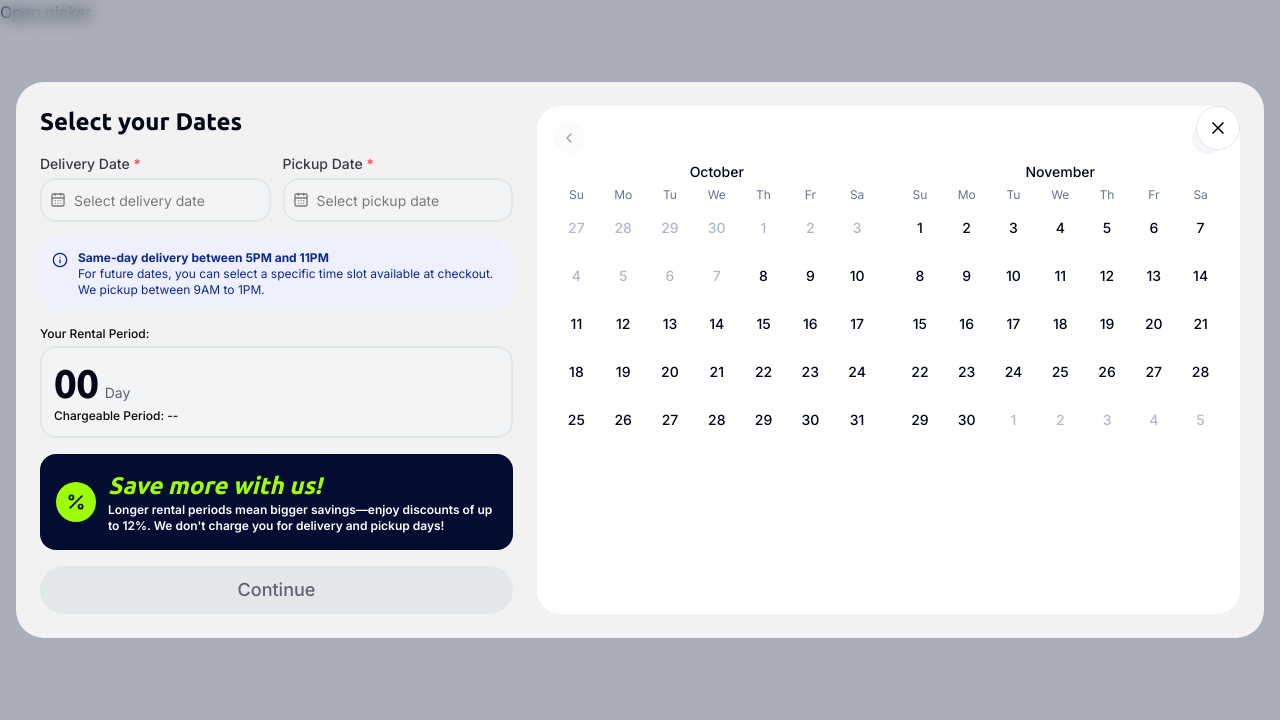
Scenario: DatePickerDialog › cannot be continued until both dates are chosen
The image size is (1280, 720).
Expected: the button "Continue" is disabled, [40,566,513,614]
Click the button "8" below "October": (764, 276) [741,253,786,299]
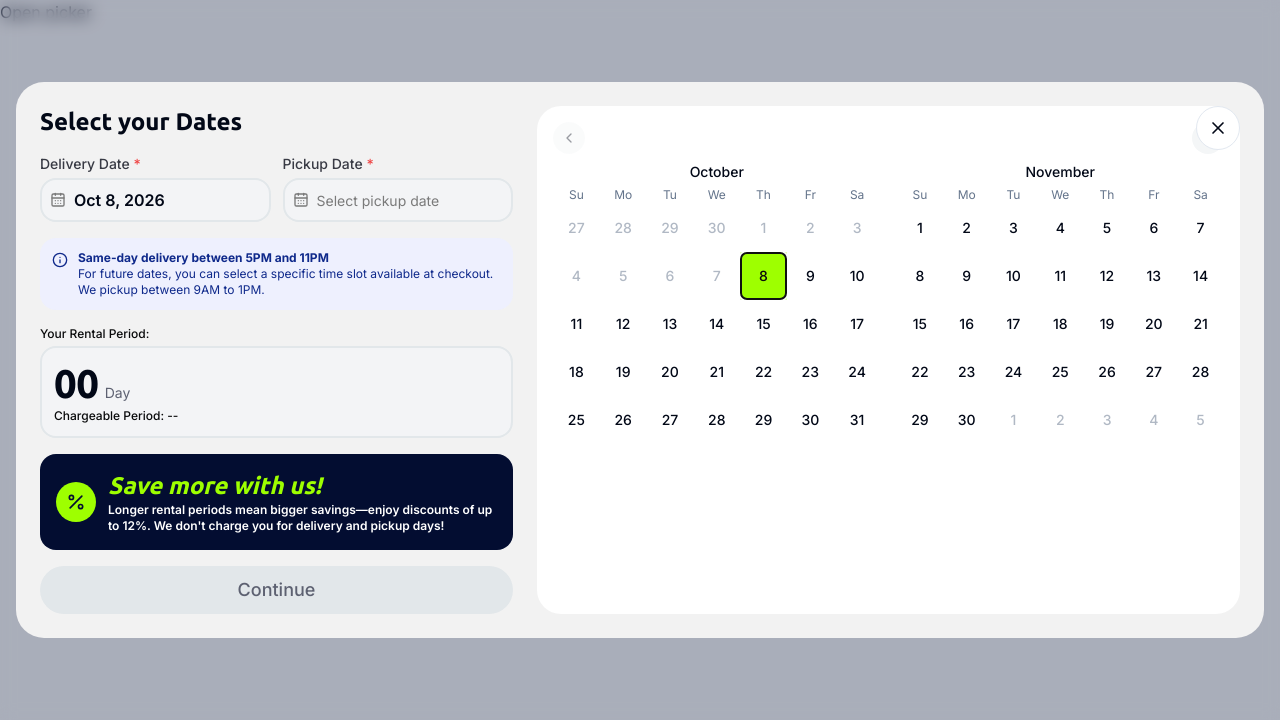
Expected: the button "Continue" is disabled, [40,566,513,614]
Expected: the text "00" is shown, [54,360,99,408]
Click the button "16" below "October": (810, 324) [788,301,833,347]
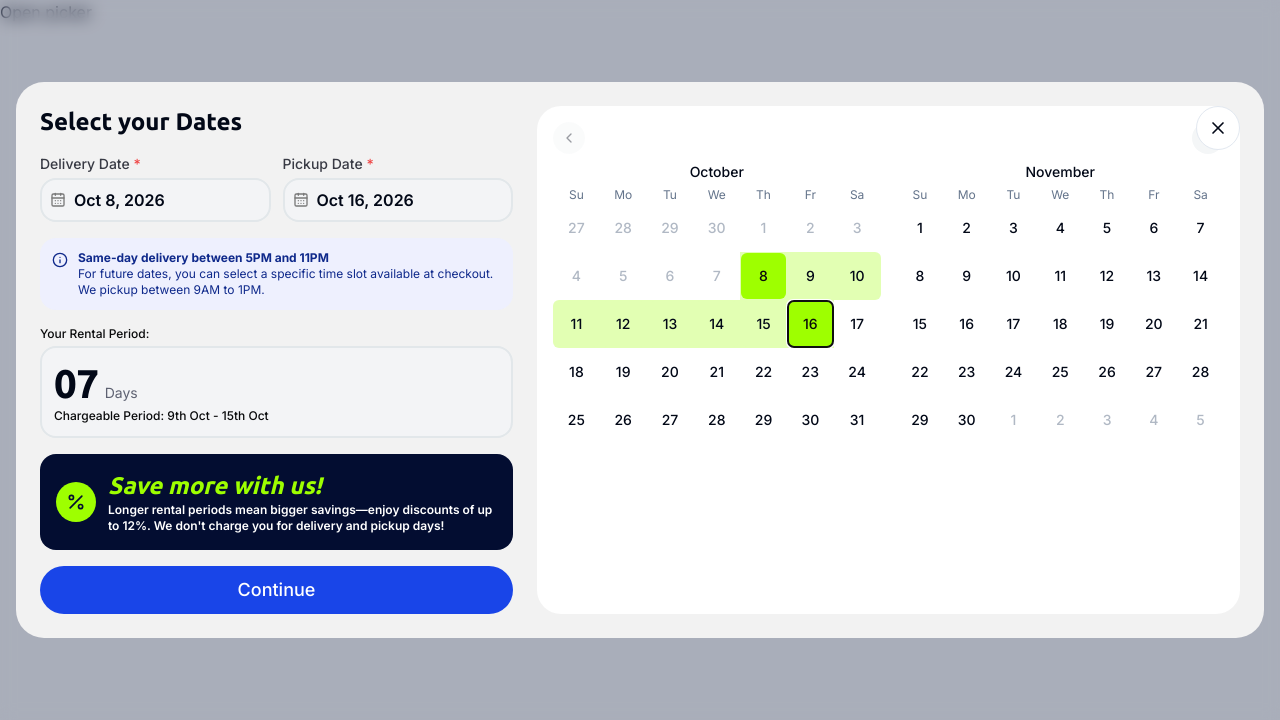
Now the button "Continue" is enabled, box [40,566,513,614]
